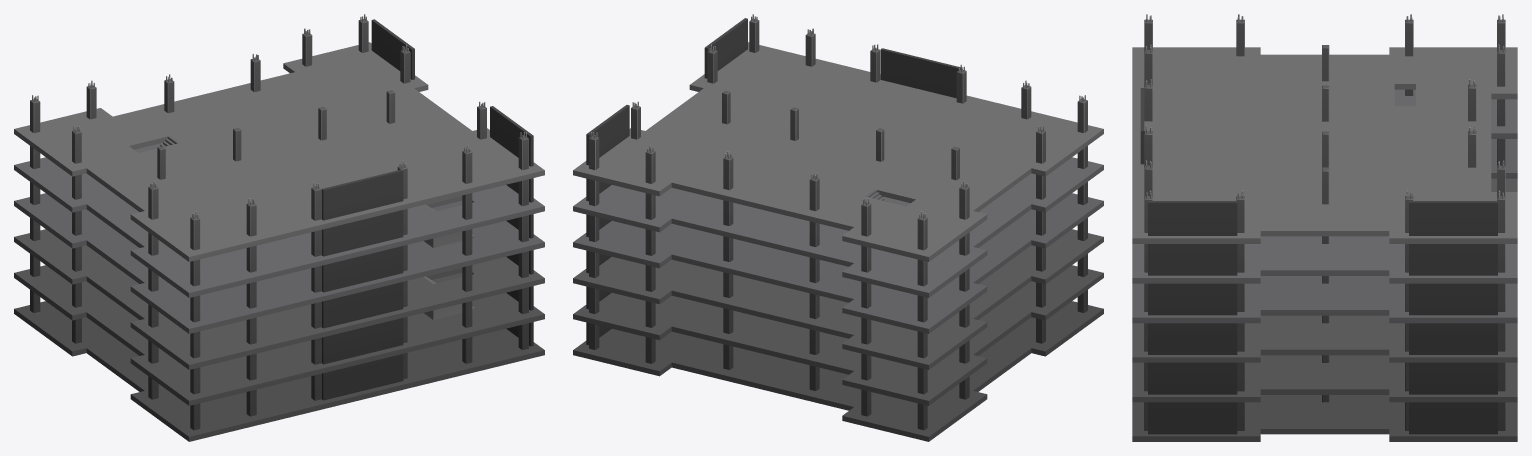
Rendered from cBuilding_1_1.fbx.
3 views of the same model, side by side, from view 1: azimuth 30°, elevation 25°; view 2: azimuth 150°, elevation 25°; view 3: azimuth 270°, elevation 25° (orthographic). The views are drawn at different scales.
Parts seen in each view (by area): view 1: cBuilding_1_1; view 2: cBuilding_1_1; view 3: cBuilding_1_1.
Boxes of the visible parts, x1,y1,x2,y2 form: cBuilding_1_1: (14,14,544,441); cBuilding_1_1: (573,14,1103,441); cBuilding_1_1: (1132,14,1517,441).
Bounding box in the file's own units: 2925 × 1733 × 2492.
